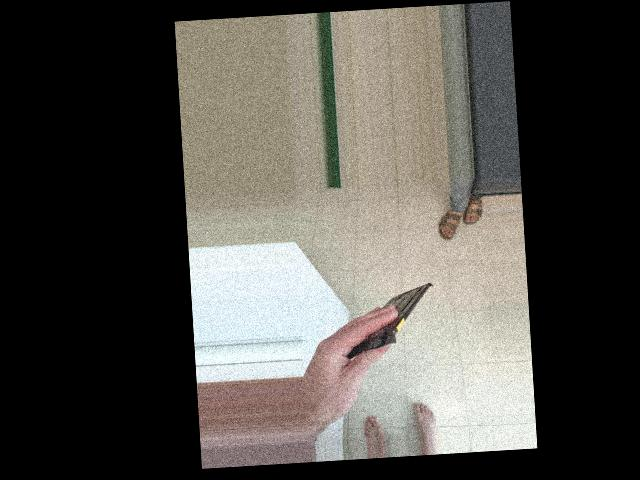chocolate: (395, 232, 482, 337)
